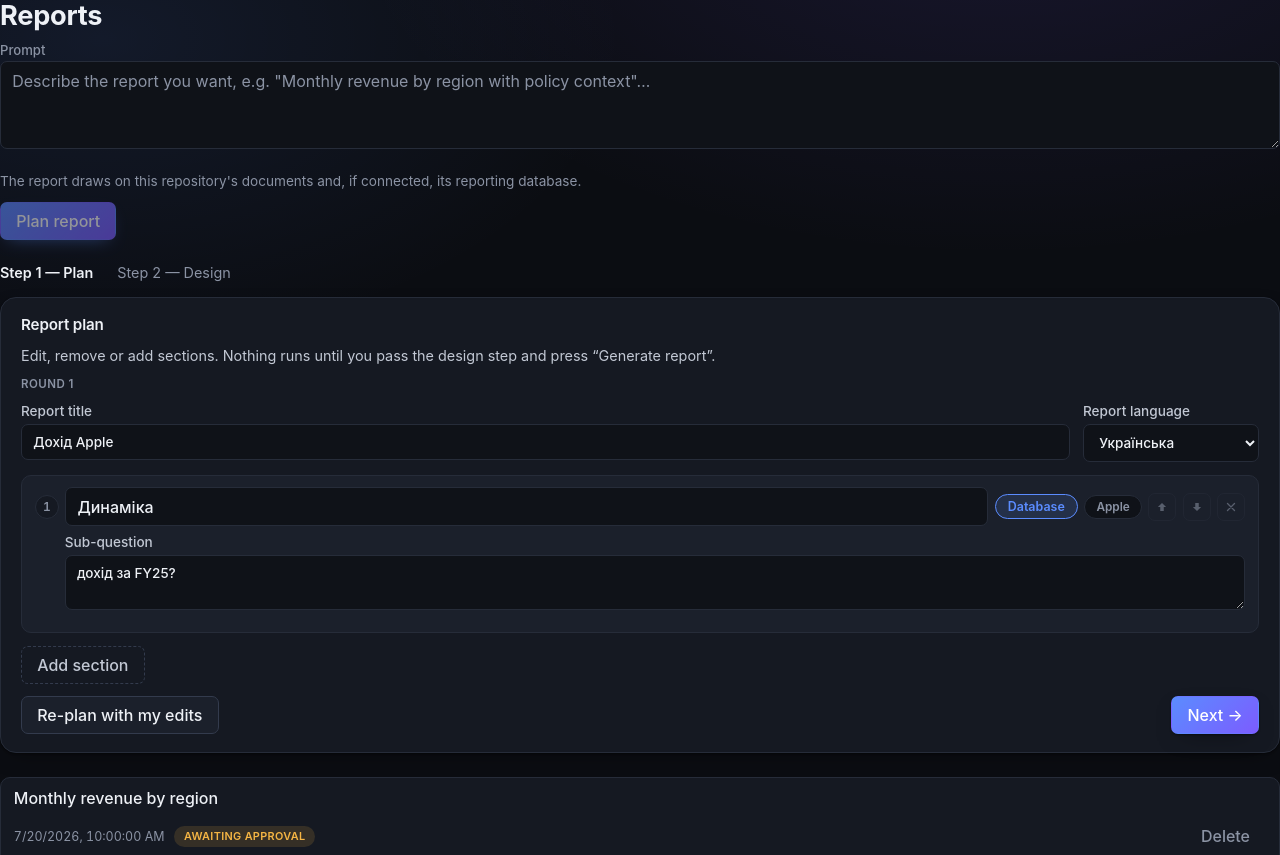
Scenario: ReportsPage › plan review › surfaces a replan failure without losing the plan
Expected: the field showing "Динаміка" is shown, [65, 487, 988, 526]
What coordinates should you click on to do the following:
click the button "Re-plan with my edits"
I would click on:
 (120, 715)
Its box is [21, 696, 218, 734].
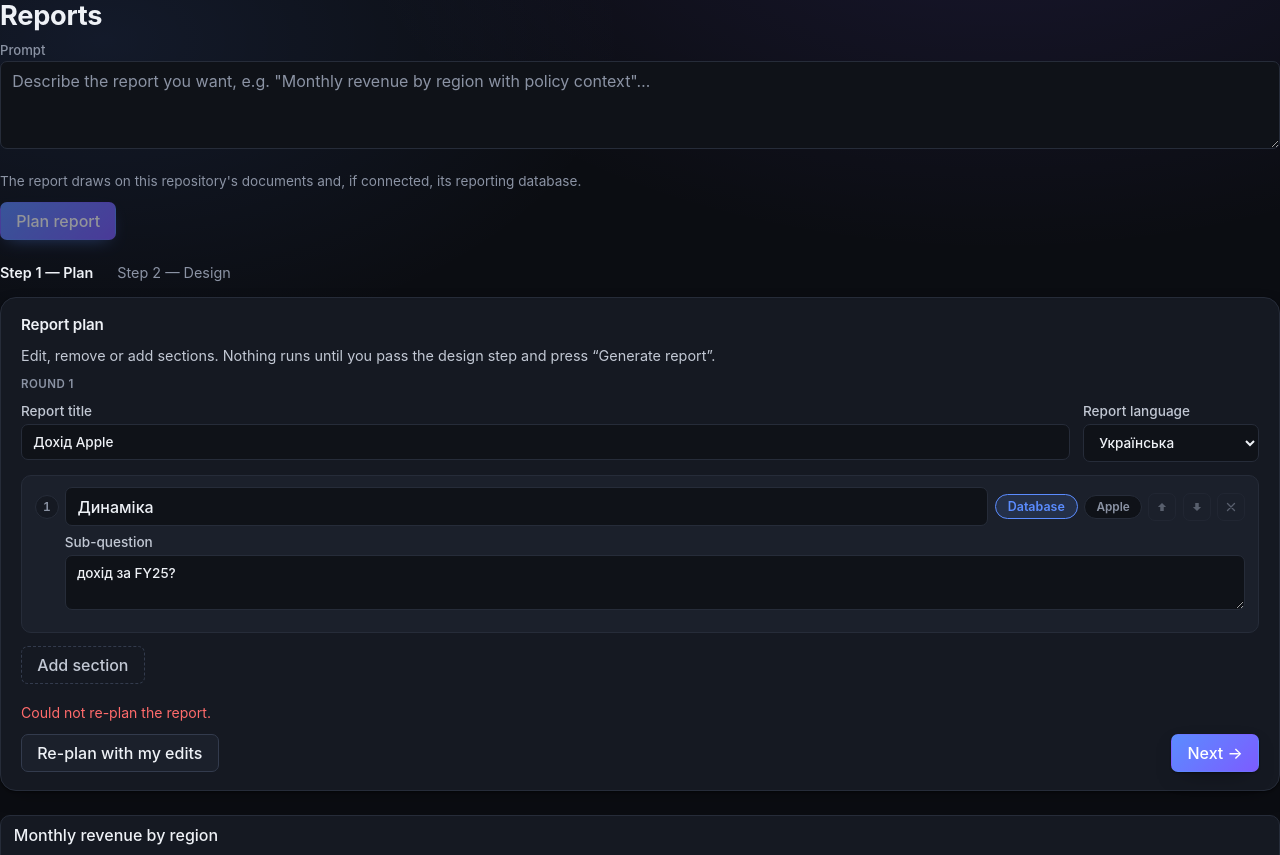
Expected: the field showing "Динаміка" is shown, [65, 487, 988, 526]
Expected: the text "Could not re-plan the report." is shown, [21, 704, 211, 721]
